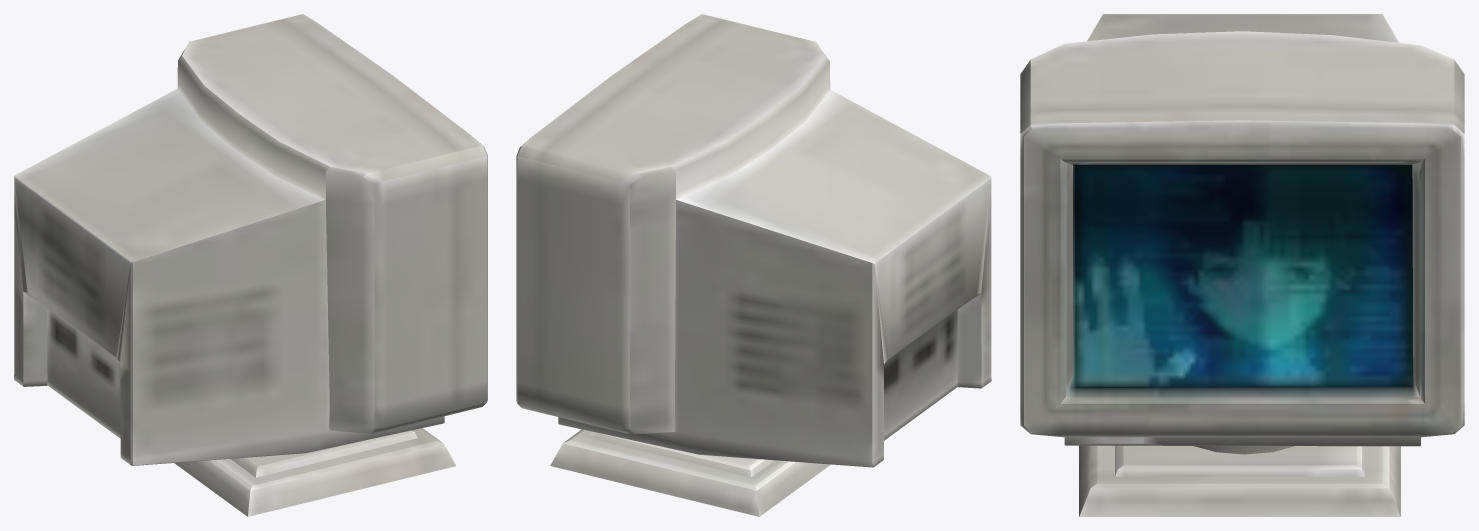
File: crt.glb
3 renders of one model, left to right at view 1: azimuth 30°, elevation 25°; view 2: azimuth 150°, elevation 25°; view 3: azimuth 270°, elevation 25°, orthographic. The views are drawn at different scales.
Visible parts, largest first — view 1: obj_computer; view 2: obj_computer; view 3: obj_computer.
Boxes of the visible parts, <box> form: obj_computer: <box>14,14,487,516</box>; obj_computer: <box>516,14,991,516</box>; obj_computer: <box>1020,14,1464,516</box>.
Size of the model in its own units: 4.58 by 4.59 by 4.62.
Materials: 1 (1 with a texture image).
